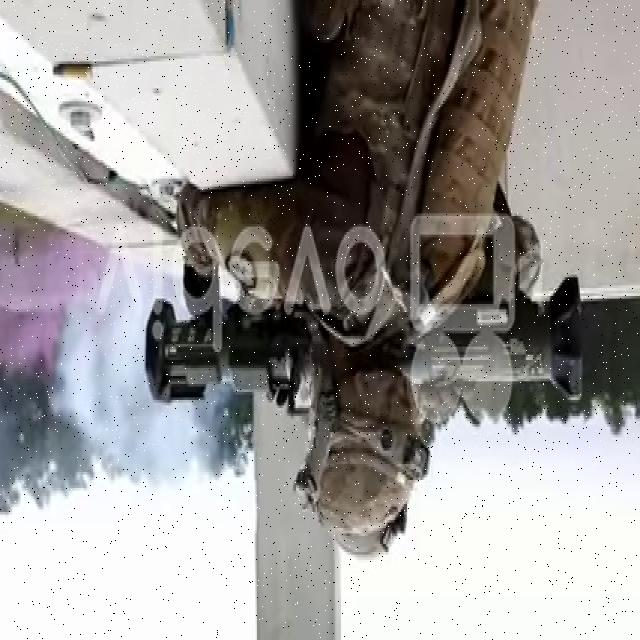bazooka: (137, 268, 595, 422)
